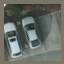car: (23, 17, 40, 49), (5, 24, 17, 55)
